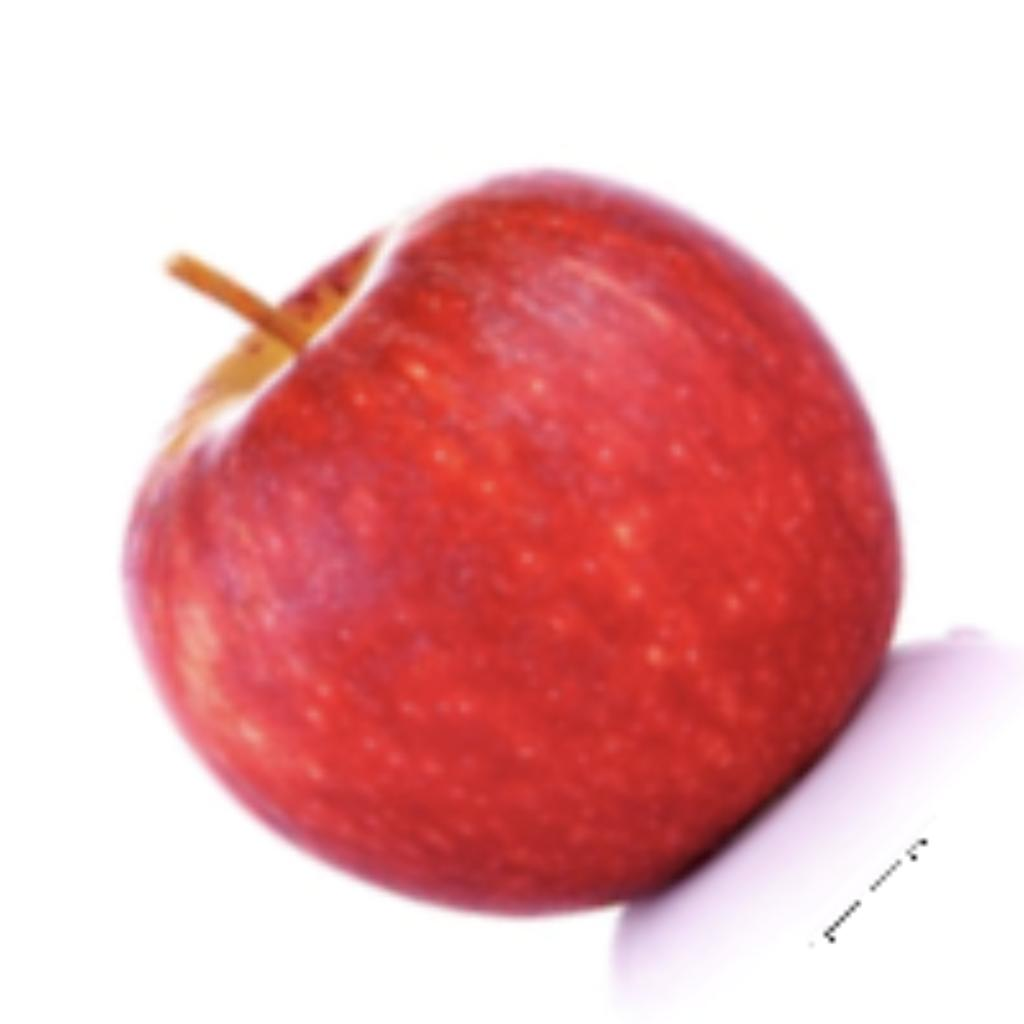apple: (113, 159, 1019, 1014)
